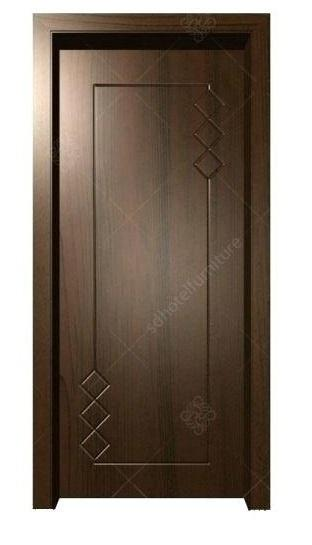door: (40, 24, 252, 499)
